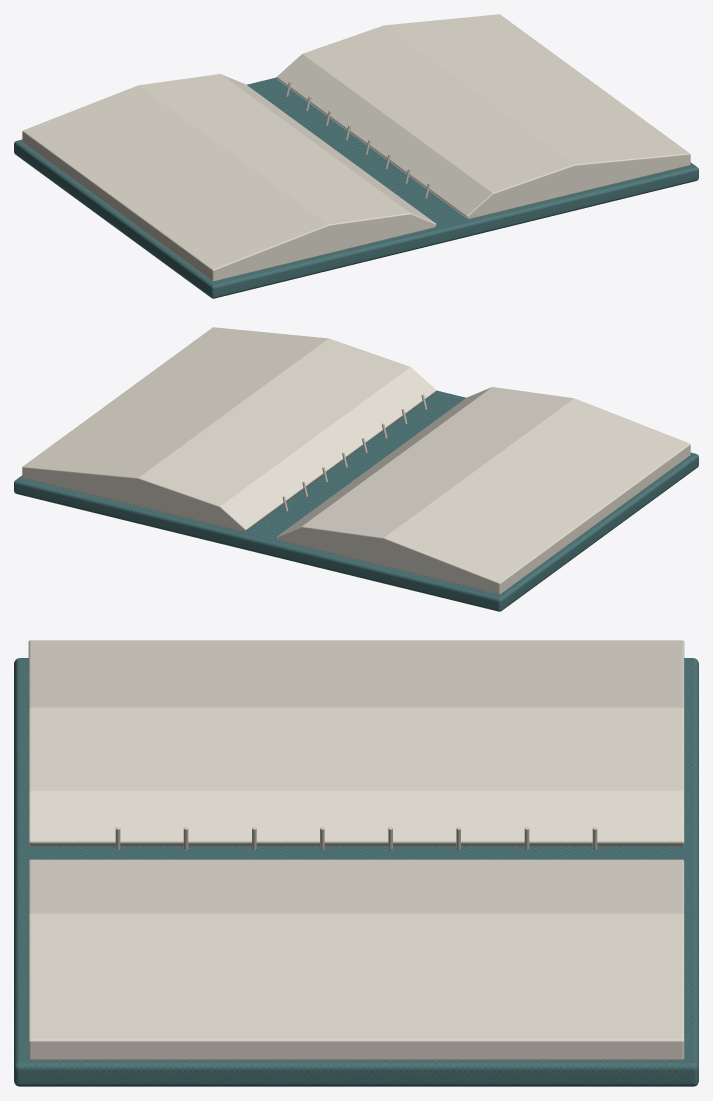
File: investigation-open-notebook.glb
3 renders of one model, top to bottom at view 1: azimuth 30°, elevation 25°; view 2: azimuth 150°, elevation 25°; view 3: azimuth 270°, elevation 25°, orthographic. The views are drawn at different scales.
Visible parts, largest first — view 1: Gently curved blank notebook pages.001, Gently curved blank notebook pages, Open notebook cover; view 2: Gently curved blank notebook pages.001, Gently curved blank notebook pages, Open notebook cover; view 3: Gently curved blank notebook pages, Gently curved blank notebook pages.001, Open notebook cover.
Boxes of the visible parts, x1=… form: Gently curved blank notebook pages.001: x1=276, y1=14, x2=690, y2=219; Gently curved blank notebook pages: x1=22, y1=74, x2=436, y2=281; Open notebook cover: x1=14, y1=77, x2=698, y2=298; Gently curved blank notebook pages.001: x1=22, y1=327, x2=436, y2=532; Gently curved blank notebook pages: x1=276, y1=387, x2=690, y2=594; Open notebook cover: x1=14, y1=390, x2=698, y2=611; Gently curved blank notebook pages: x1=28, y1=640, x2=684, y2=846; Gently curved blank notebook pages.001: x1=28, y1=859, x2=684, y2=1060; Open notebook cover: x1=14, y1=658, x2=698, y2=1086.
Size of the model in its own units: 0.298 by 0.025 by 0.211.
3 materials, 3 textured.
